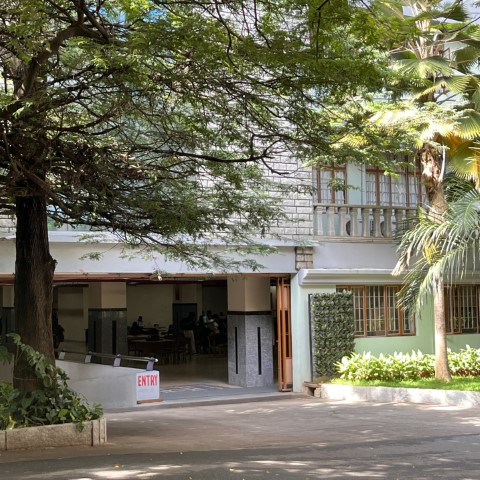Central Block: (45, 207, 480, 469)
